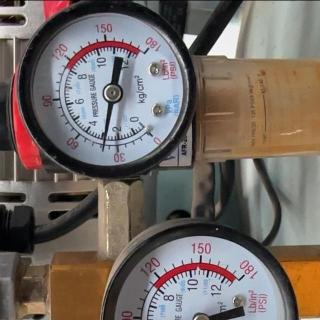gauge: (10, 0, 201, 180), (98, 218, 316, 319), (102, 82, 124, 104), (231, 265, 253, 285), (136, 40, 156, 60), (143, 125, 161, 145), (191, 312, 211, 320), (98, 144, 106, 154)
